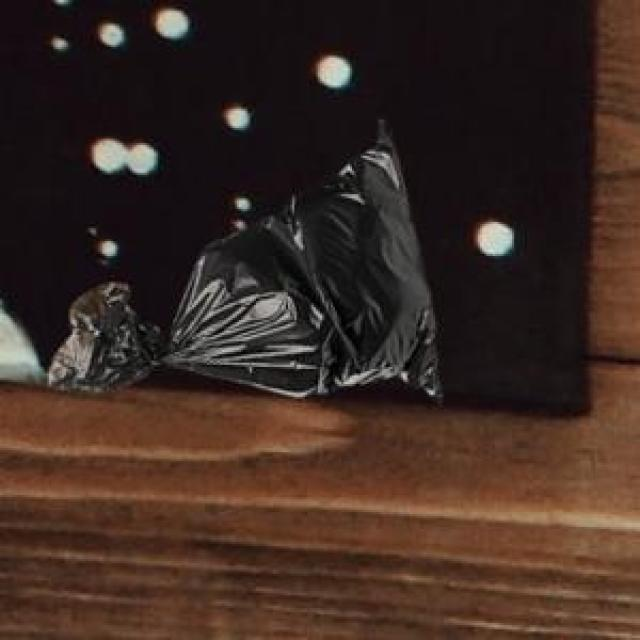miscellaneous trash: (45, 115, 437, 399)
